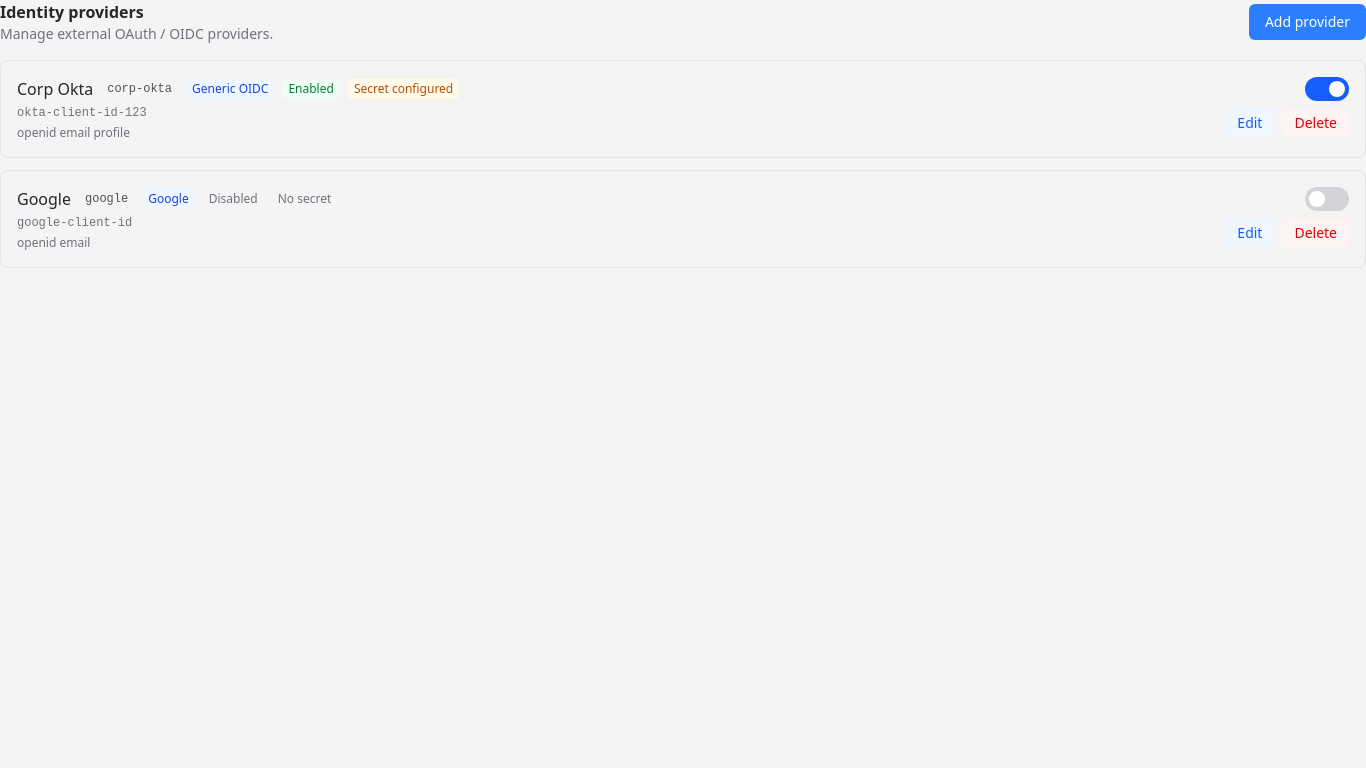
OAuthProvidersSettings › opens the create form when clicking Add provider
What coordinates should you click on to do the following:
click the button with test id "oauth-provider-add"
I would click on:
 (1307, 22)
Its box is [1249,4,1365,40].
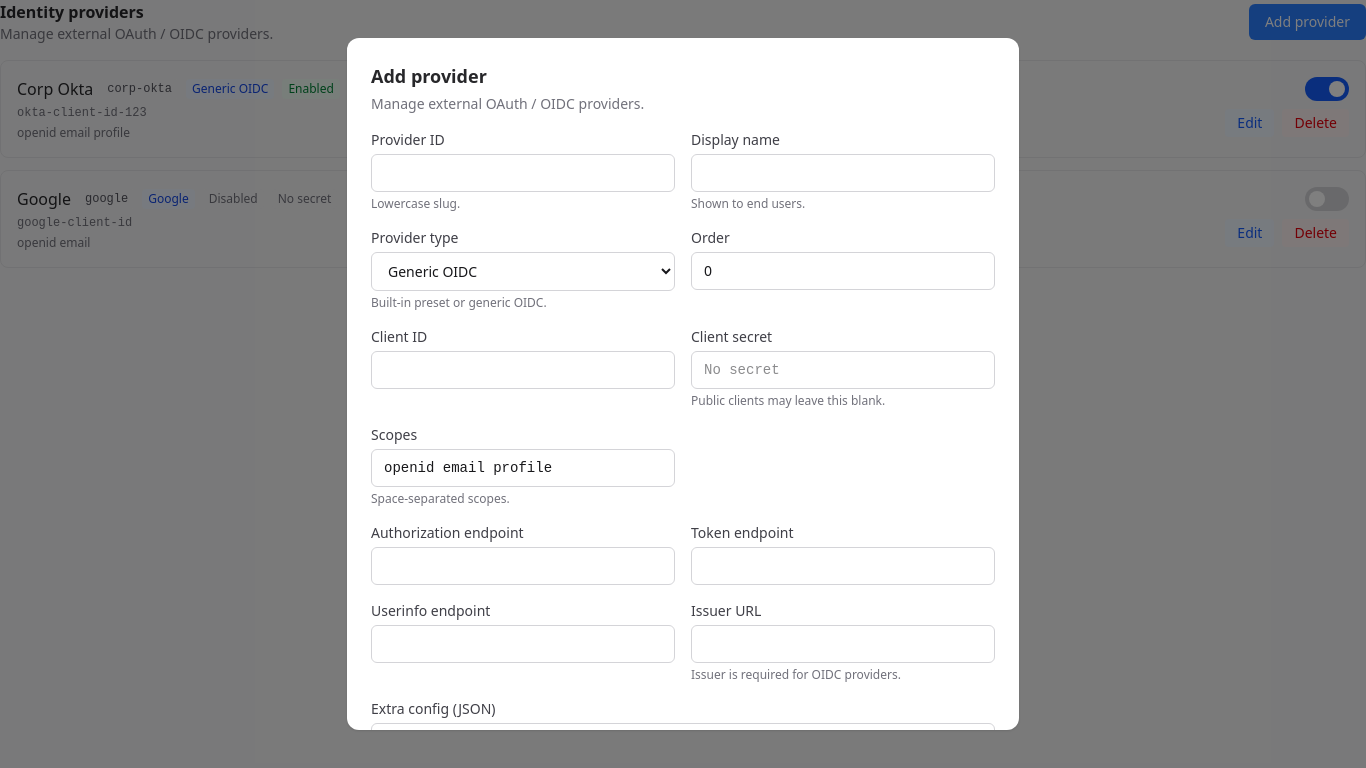
Expected: the form with test id "oauth-provider-form" is shown, [347,38,1019,730]
Expected: the field with test id "oauth-provider-field-providerId" is enabled, [371,154,675,192]
